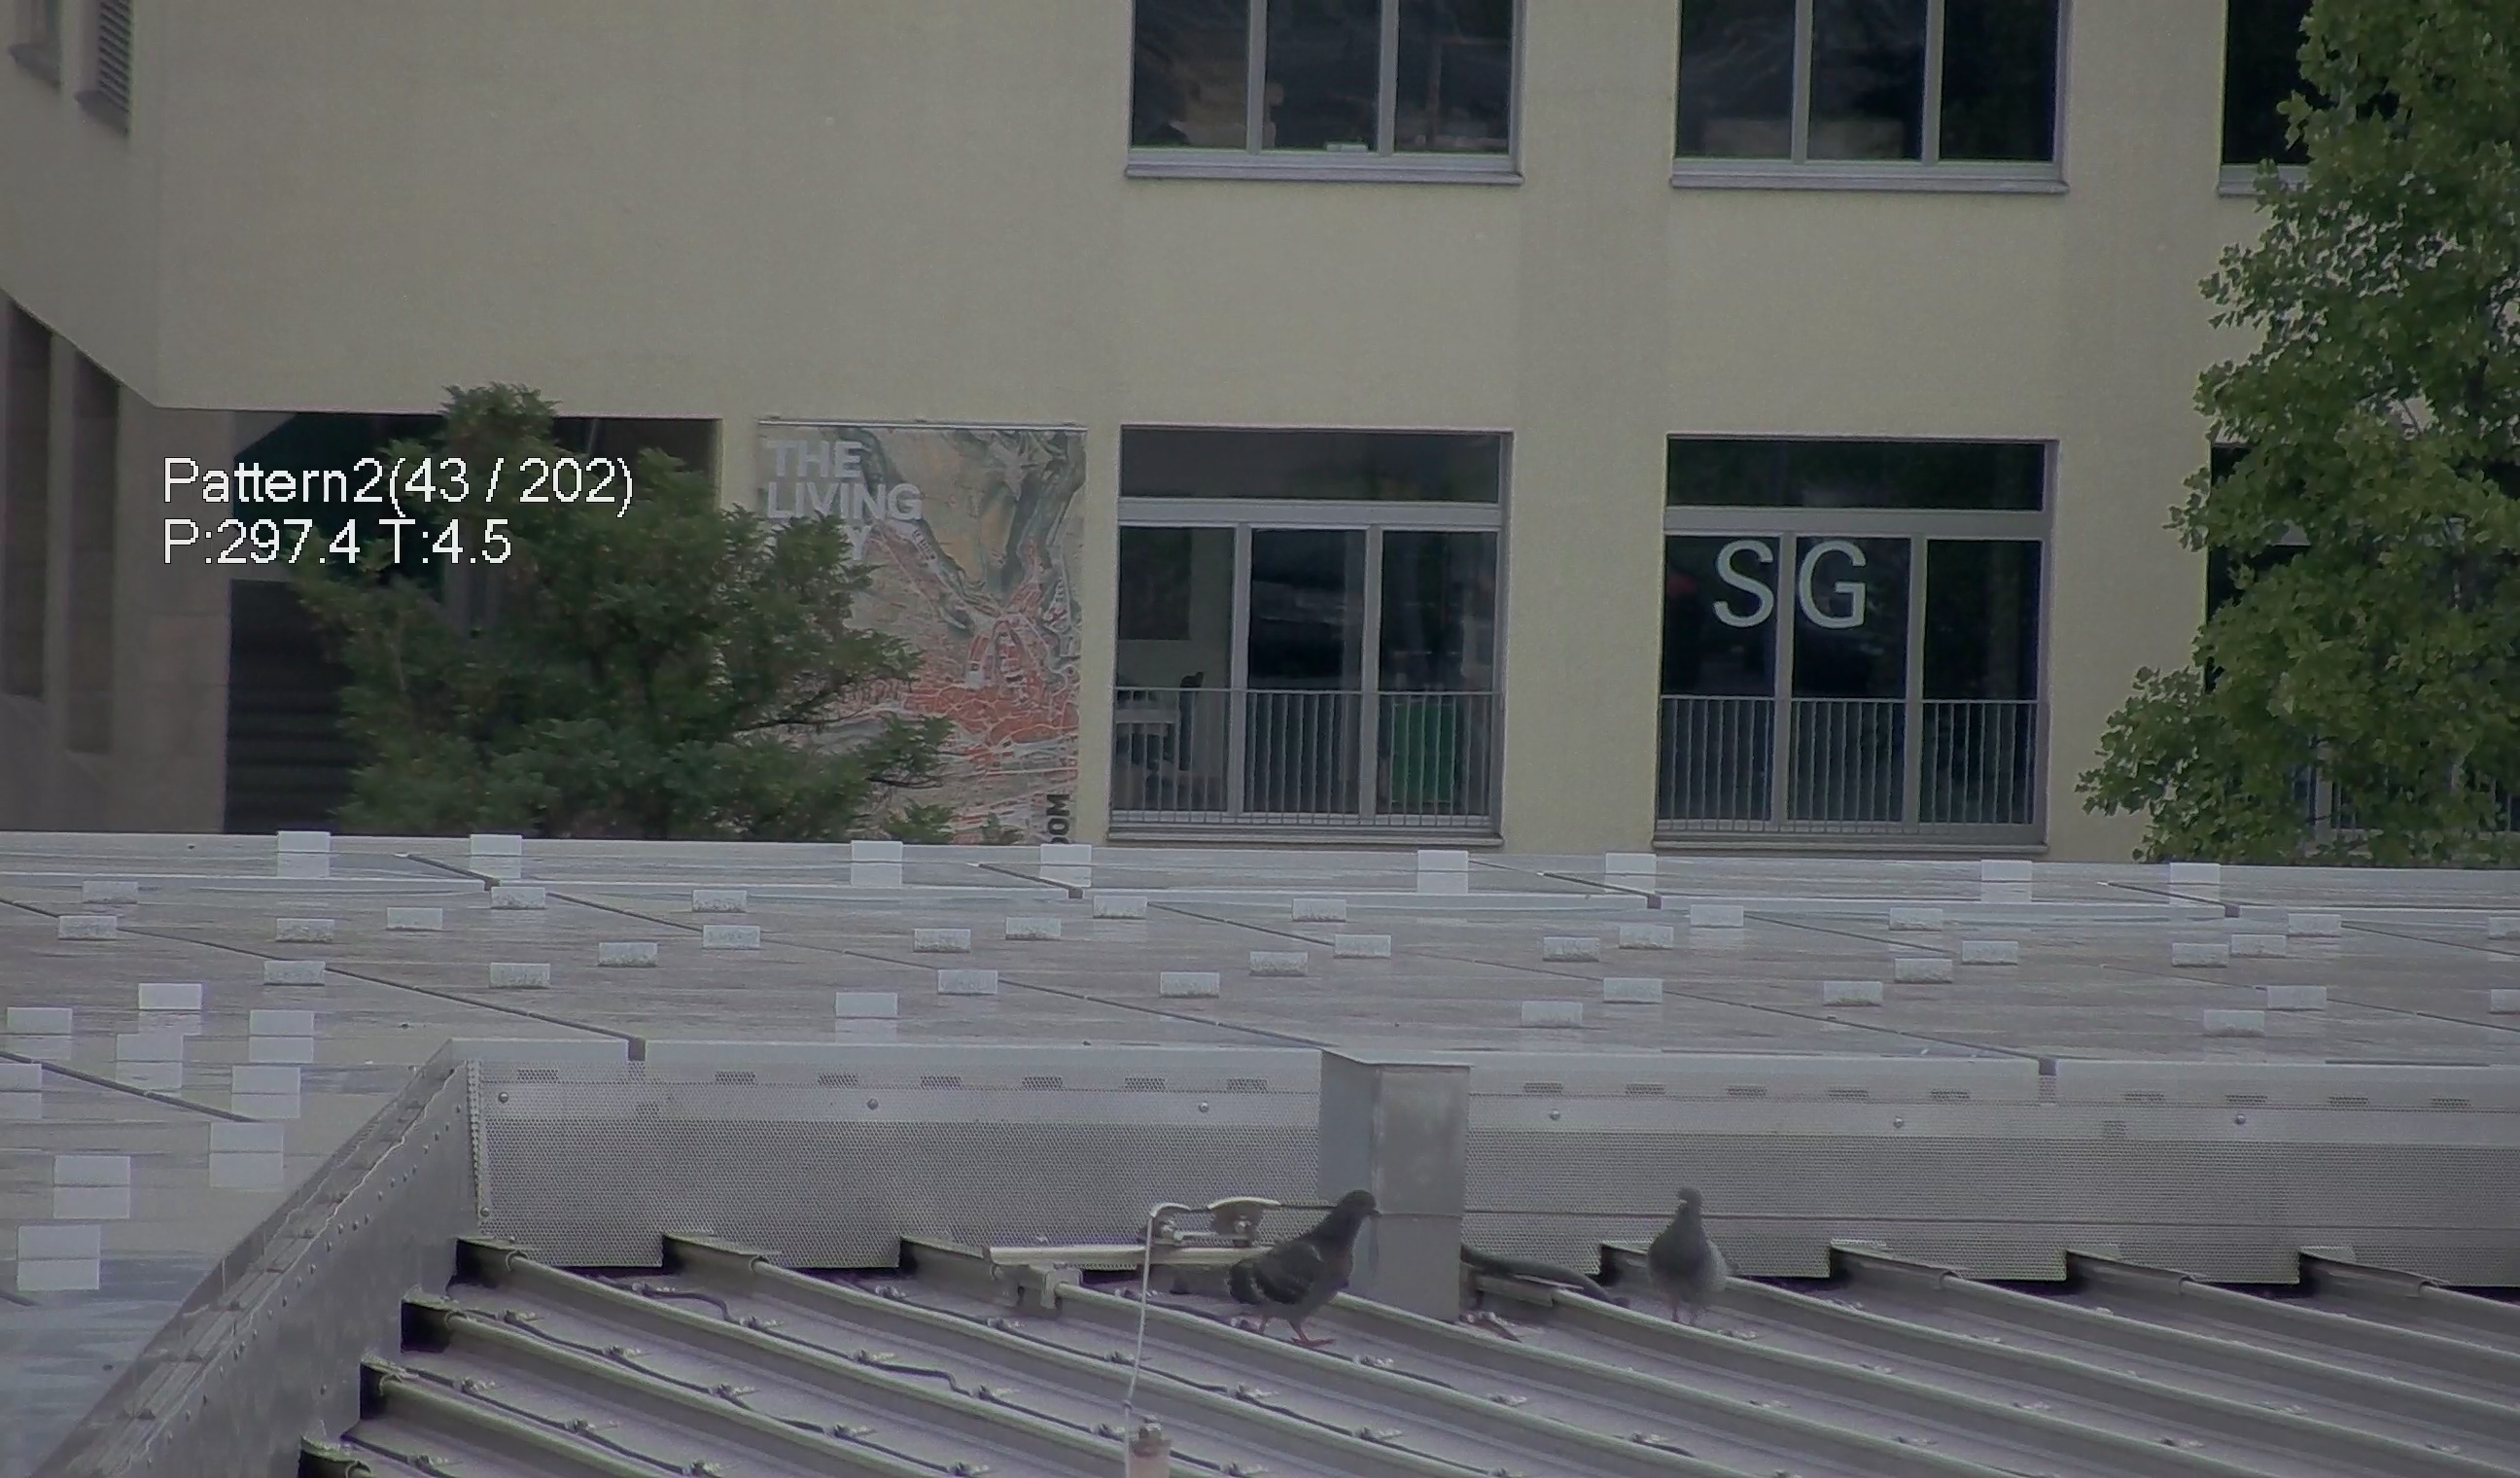Pigeon: (1199, 1189, 1391, 1346), (1627, 1175, 1746, 1346)
